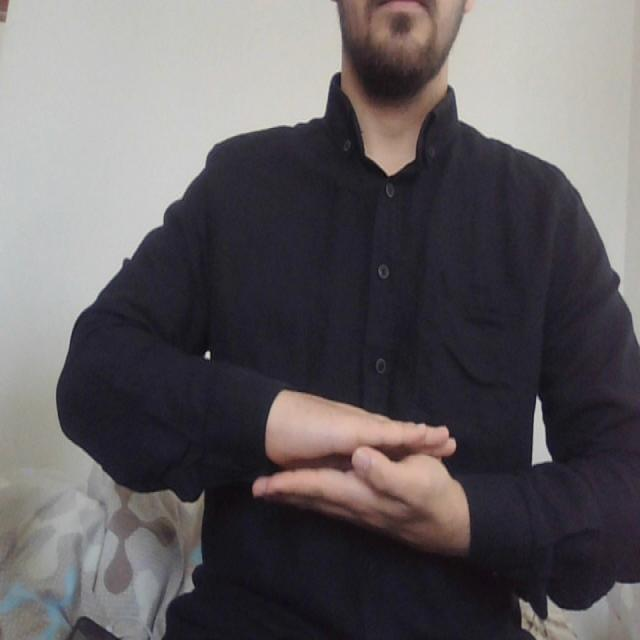Arkadas: (218, 375, 505, 562)
